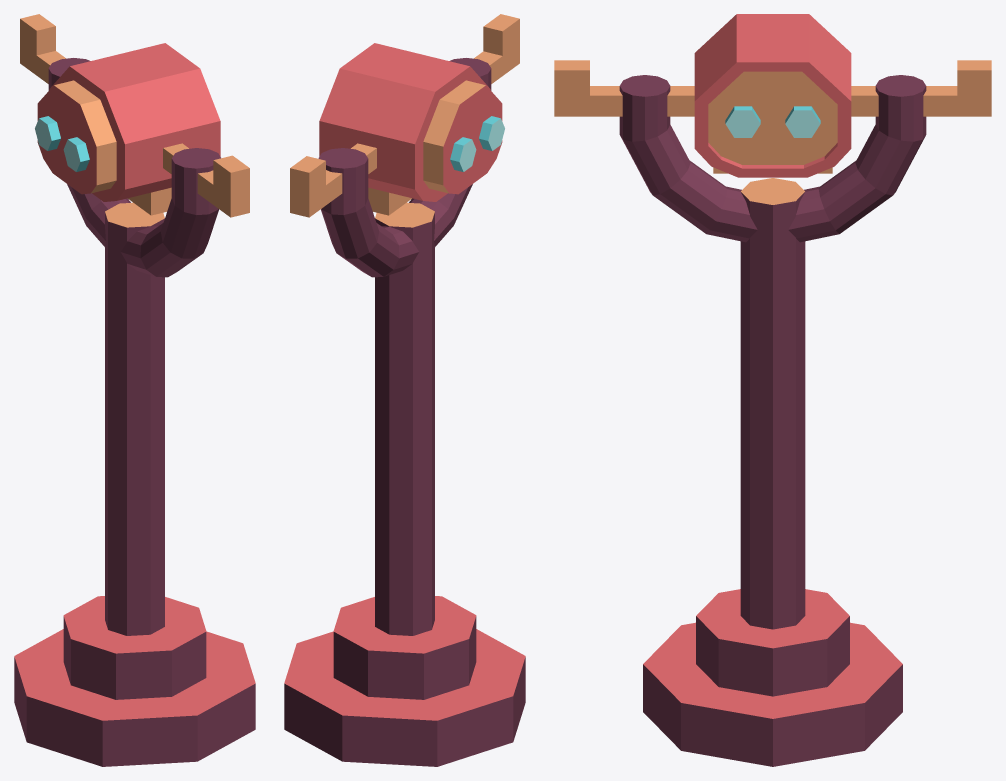
File: Binocular.fbx
3 renders of one model, left to right at view 1: azimuth 30°, elevation 25°; view 2: azimuth 150°, elevation 25°; view 3: azimuth 270°, elevation 25°, orthographic. The views are drawn at different scales.
Visible parts, largest first — view 1: Cylinder, Cube.003; view 2: Cylinder, Cube.003; view 3: Cylinder, Cube.003.
Boxes of the visible parts, box(x1,y1,x2,y2) form: Cylinder: box(14, 58, 255, 766); Cube.003: box(20, 14, 249, 217); Cylinder: box(284, 58, 525, 766); Cube.003: box(290, 14, 519, 217); Cylinder: box(619, 75, 926, 766); Cube.003: box(554, 14, 991, 177).
Bounding box in the file's own units: 200 × 572 × 337.
1 material, 1 textured.
